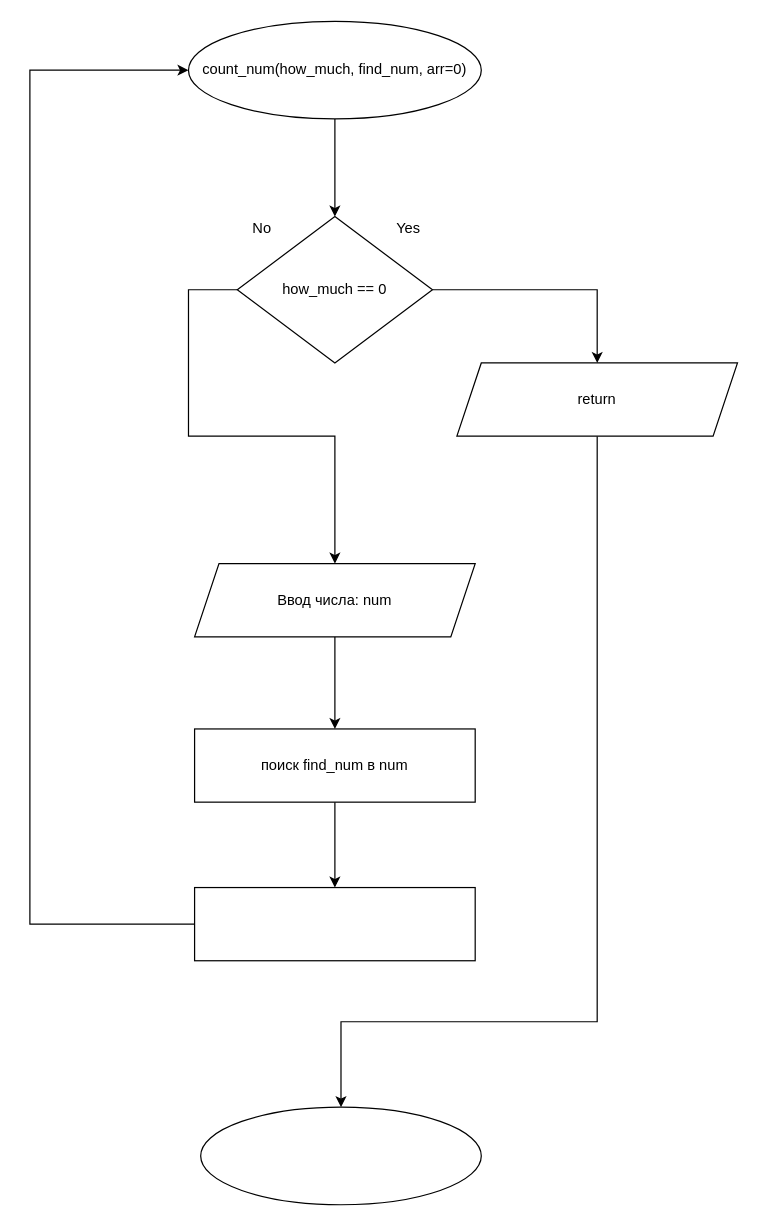
Image size: 759x1226. Some labels were removed from this diagram. Here are the shapes that lost their labels. From the top down, the centre of each, then its label:
At point 334,923: "how_much - 1".
At point 340,1155: "Конец".
